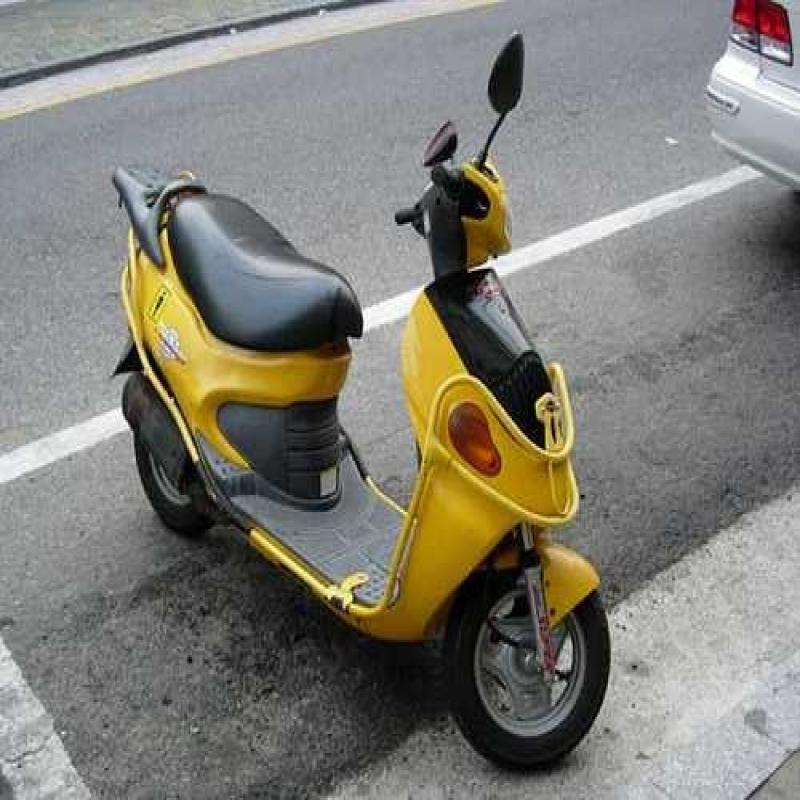bike: (103, 50, 622, 766)
